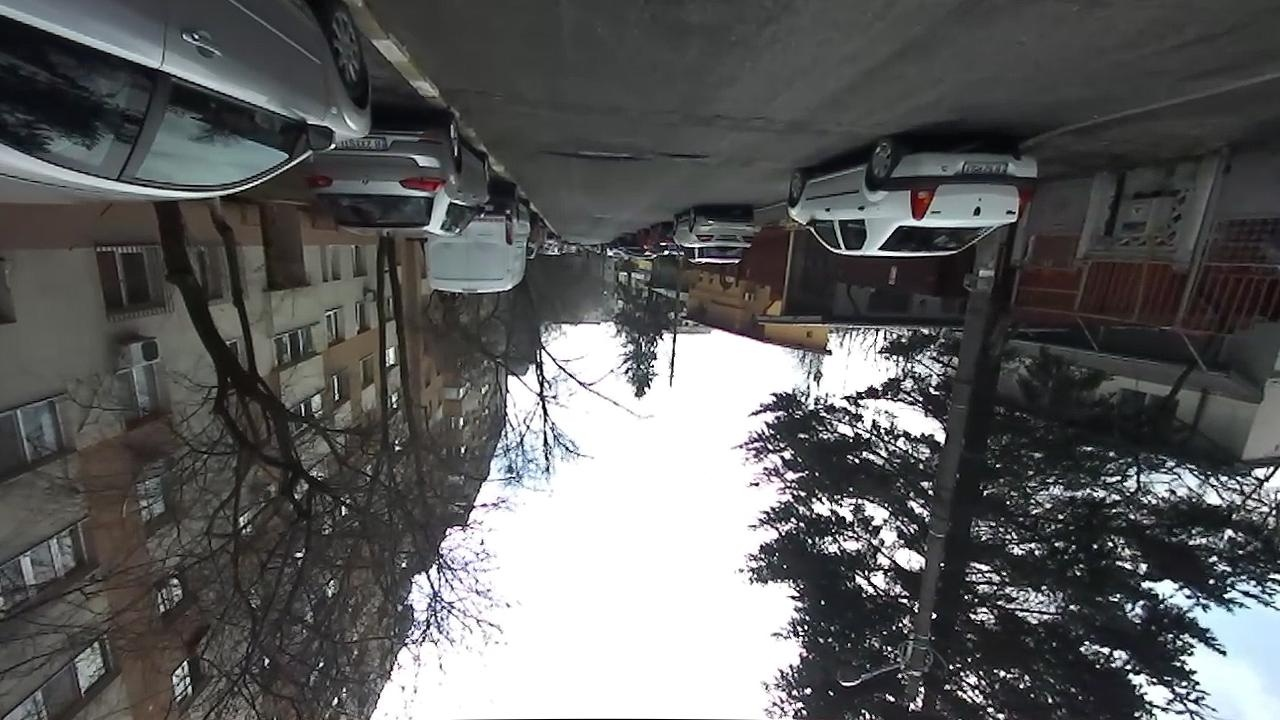pothole: (539, 144, 643, 164), (657, 149, 709, 161)
